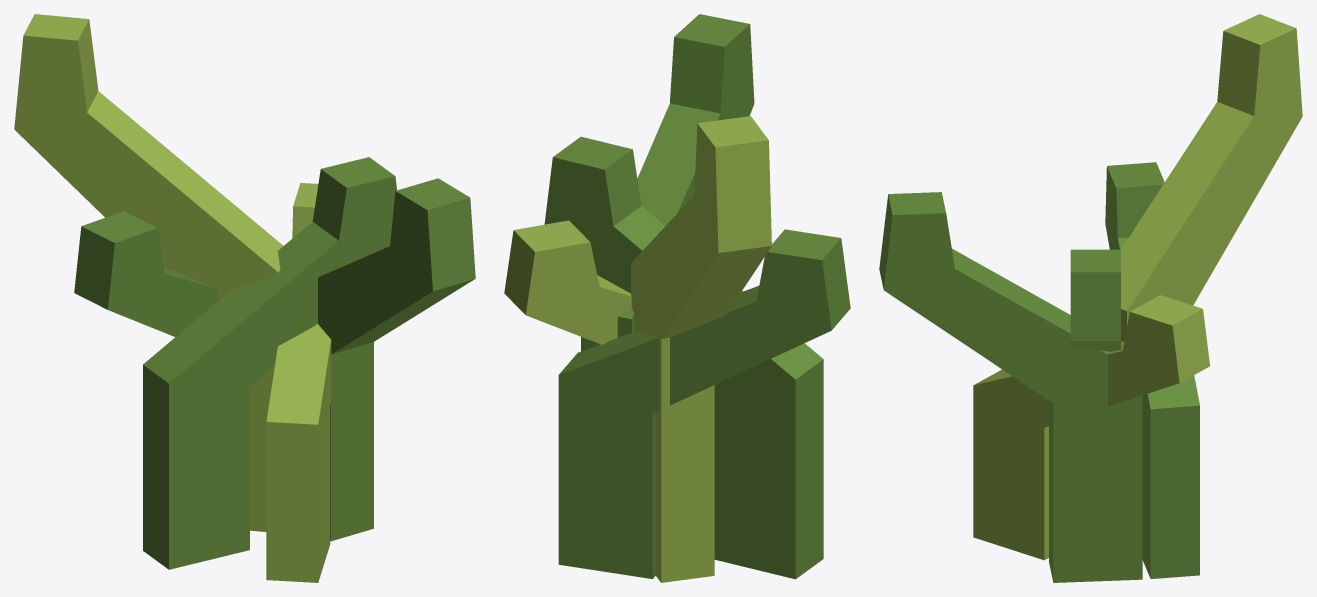
File: SM_VMF_Crop_Wheat_Seedling.fbx
3 renders of one model, left to right at view 1: azimuth 30°, elevation 25°; view 2: azimuth 150°, elevation 25°; view 3: azimuth 270°, elevation 25°, orthographic. The views are drawn at different scales.
Parts seen in each view (by area): view 1: SM_VMF_Crop_Wheat_Seedling_Leaves; view 2: SM_VMF_Crop_Wheat_Seedling_Leaves; view 3: SM_VMF_Crop_Wheat_Seedling_Leaves.
Part boxes in pixels (x1,y1,x2,y2): SM_VMF_Crop_Wheat_Seedling_Leaves: (14, 14, 475, 582); SM_VMF_Crop_Wheat_Seedling_Leaves: (504, 14, 850, 582); SM_VMF_Crop_Wheat_Seedling_Leaves: (879, 14, 1302, 582).
Size of the model in its own units: 18.21 by 28 by 23.61.
1 material, 1 textured.
